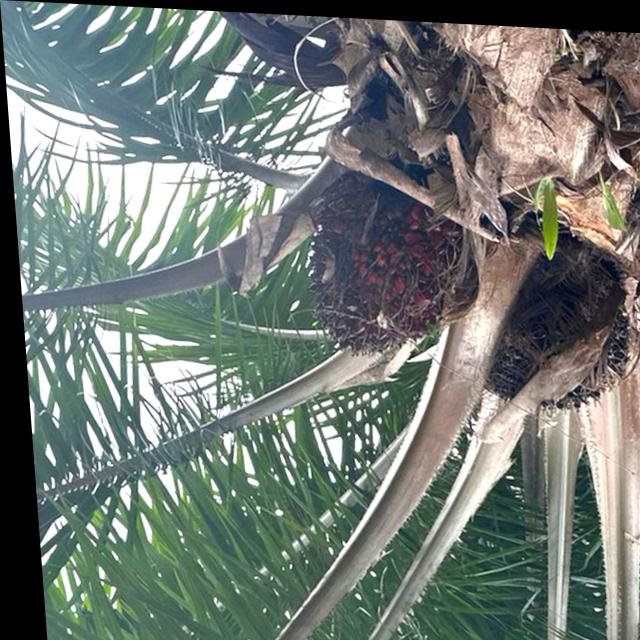ripe: (290, 175, 483, 366), (466, 237, 628, 414)
